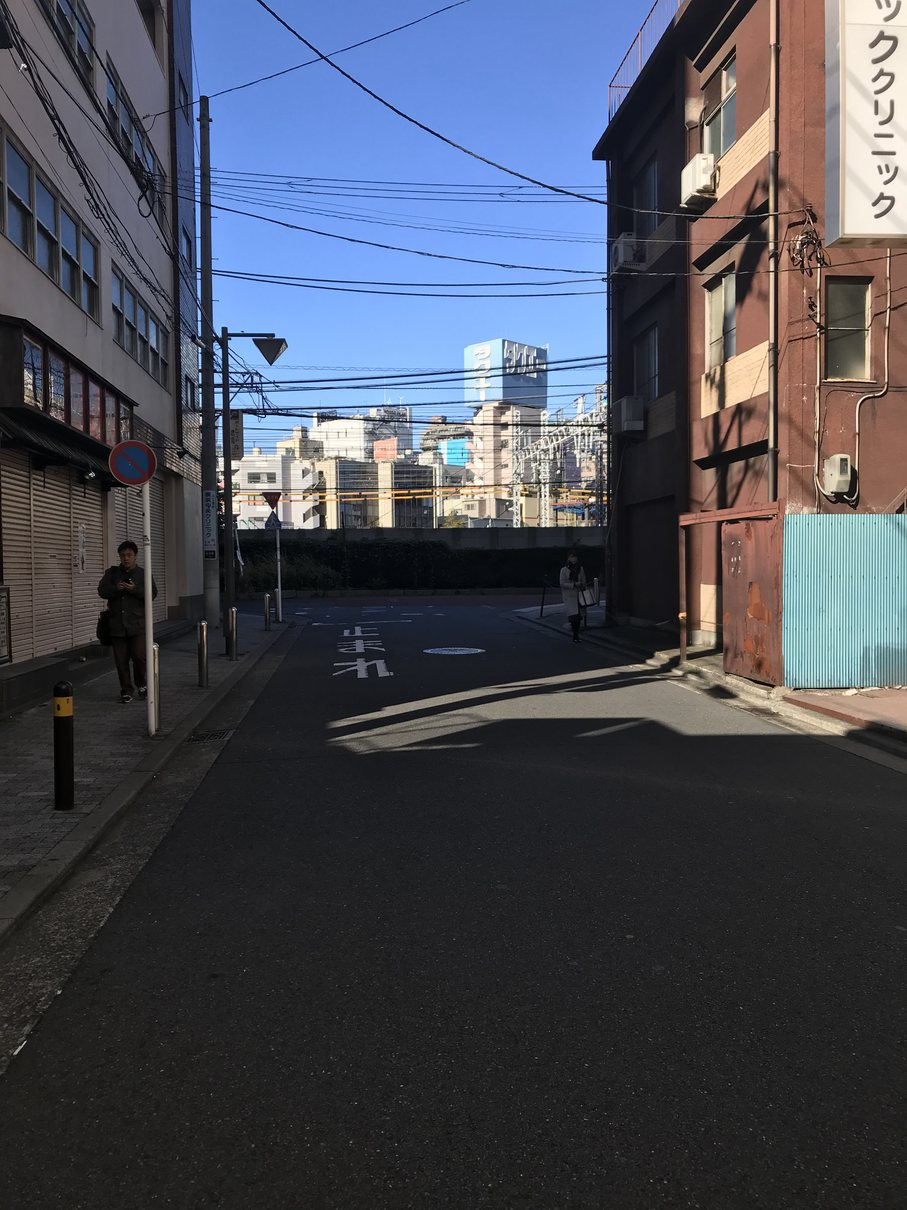stop_sign: (261, 491, 282, 509)
